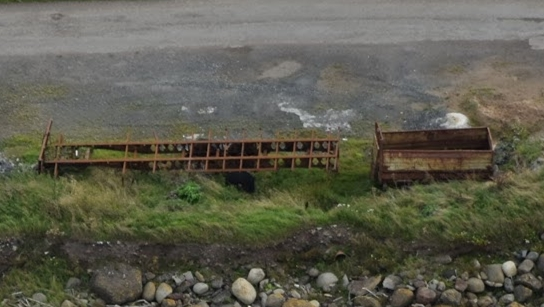cuboid: (31, 109, 348, 188), (367, 113, 506, 197)
